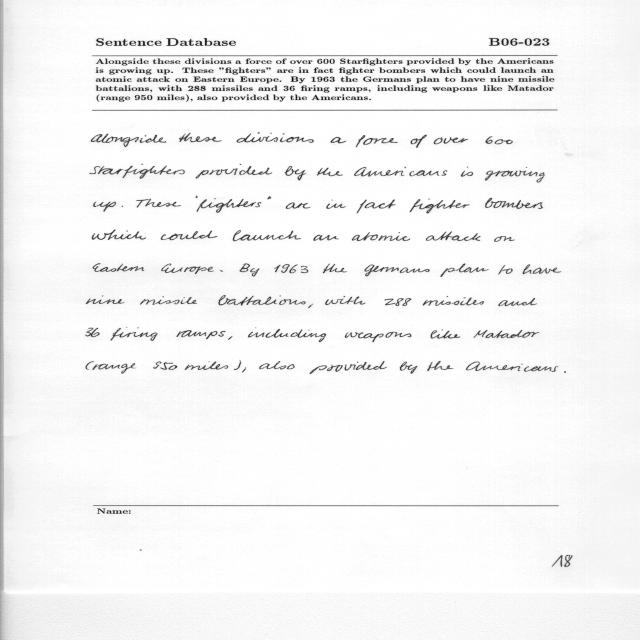word: (90, 164, 185, 179), (248, 327, 326, 342), (196, 164, 272, 178), (466, 361, 558, 372), (310, 361, 387, 374), (91, 134, 166, 147), (197, 198, 262, 213), (218, 295, 306, 306), (354, 167, 447, 177), (485, 167, 545, 182), (410, 199, 470, 214), (364, 265, 430, 277), (236, 133, 314, 143), (233, 230, 301, 241), (440, 263, 489, 277), (345, 332, 411, 342), (111, 327, 158, 341), (485, 198, 543, 209), (423, 296, 484, 306), (357, 200, 396, 214), (92, 230, 146, 240), (161, 264, 214, 274), (474, 330, 540, 338), (352, 232, 410, 241), (356, 135, 398, 147), (161, 231, 217, 240), (426, 232, 481, 241), (92, 363, 136, 374), (93, 263, 145, 272), (140, 297, 197, 305), (176, 330, 226, 339), (136, 199, 181, 208), (179, 133, 222, 142), (185, 361, 228, 370), (523, 264, 561, 274), (326, 296, 366, 305), (259, 361, 295, 370), (274, 264, 309, 273), (86, 296, 125, 304), (498, 298, 537, 306), (285, 166, 307, 180), (427, 361, 454, 371), (431, 330, 460, 339), (240, 264, 260, 277), (434, 138, 468, 145), (400, 361, 418, 374), (485, 137, 513, 145), (410, 135, 427, 148), (94, 202, 116, 212), (323, 264, 347, 273), (385, 298, 412, 306), (154, 361, 178, 370), (317, 168, 343, 176), (326, 200, 346, 209), (286, 202, 311, 209), (313, 235, 339, 241), (498, 265, 513, 274), (494, 236, 515, 242), (86, 328, 100, 337), (461, 167, 473, 177), (331, 137, 346, 143), (86, 361, 94, 370), (234, 360, 241, 370), (308, 304, 313, 308), (228, 336, 233, 340), (242, 368, 246, 373), (268, 196, 272, 199), (195, 196, 198, 198), (220, 270, 223, 272), (564, 371, 566, 373), (122, 206, 123, 207)
